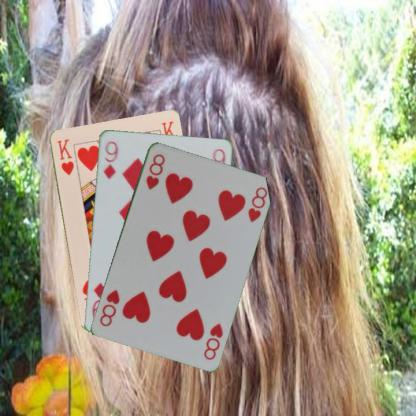8h: (201, 320, 224, 361), (143, 150, 166, 190)
9d: (100, 138, 119, 180)
Kh: (54, 136, 75, 177)
